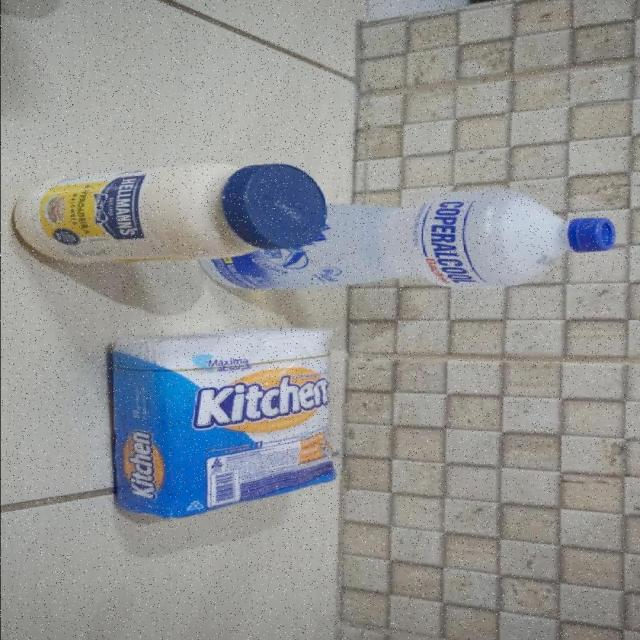AlcoholBottle: (200, 190, 618, 292)
Mayonnaise: (14, 163, 326, 263)
Napkin: (111, 327, 337, 517)
